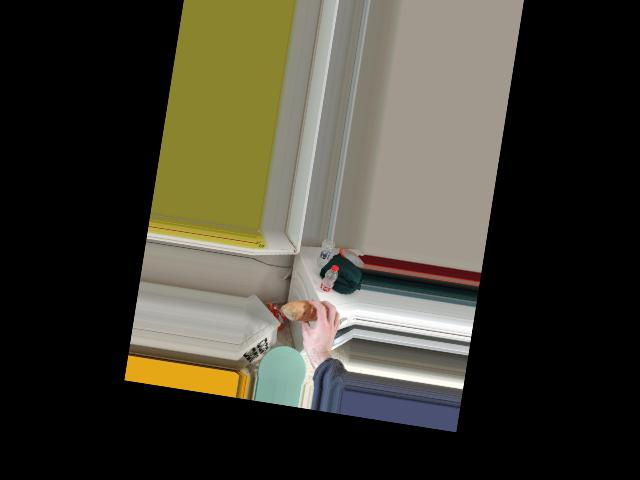sweet_potato: (290, 300, 326, 329)
